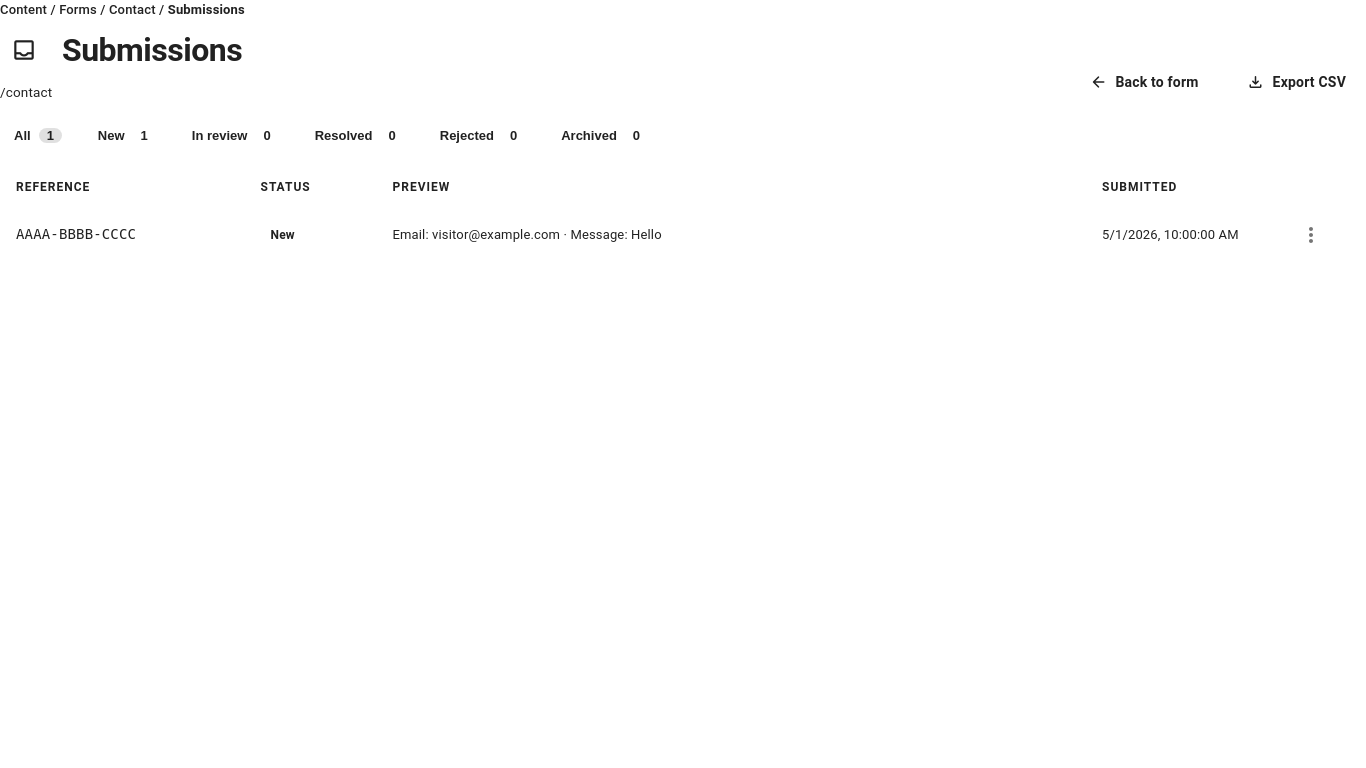
Test: FormSubmissionsPage › opens the detail drawer when a row is clicked
Step 1. Click the text "AAAA-BBBB-CCCC" → {"x": 76, "y": 234}, box [16,226,136,242]
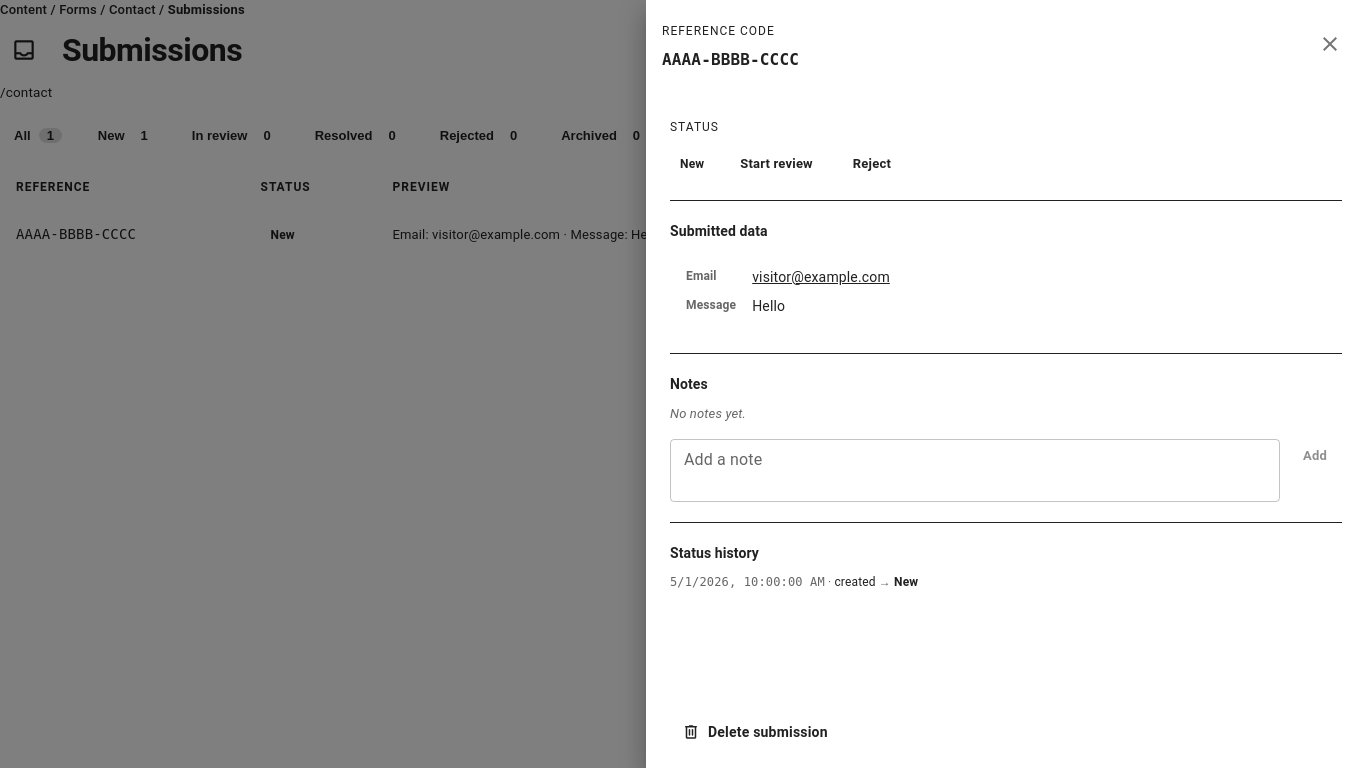
Result: the element with test id "forms.submission.detail" is shown
Result: the link "visitor@example.com" is shown at [752,269,890,285]
